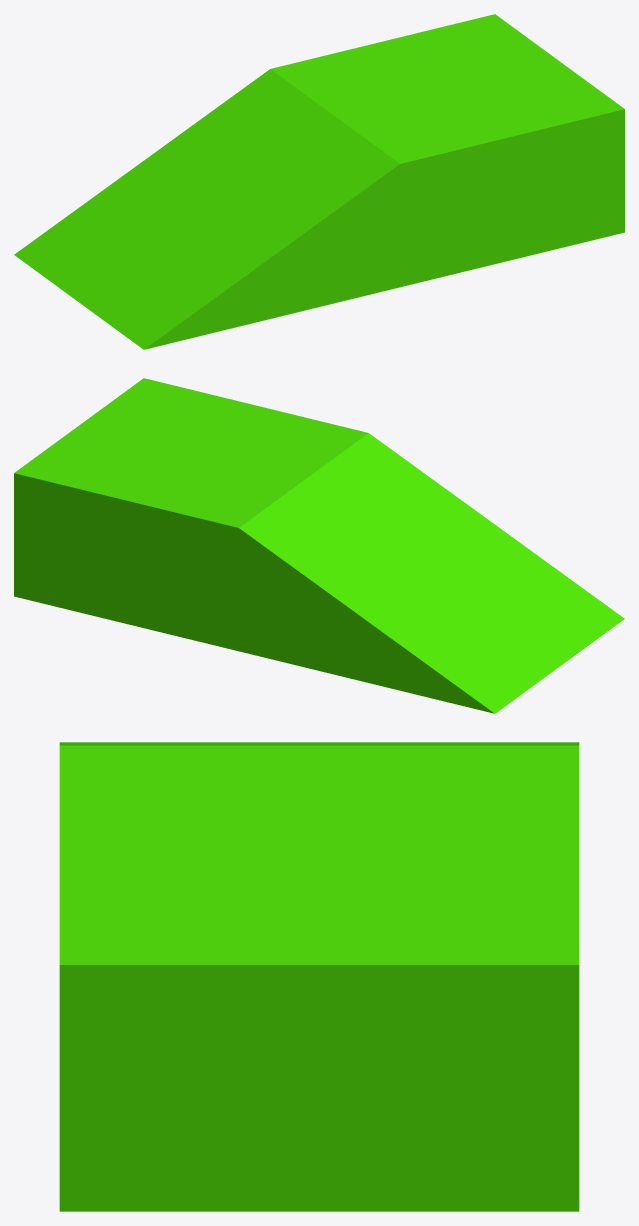
File: Playergym66.fbx
3 views of the same model, one above another, from view 1: azimuth 30°, elevation 25°; view 2: azimuth 150°, elevation 25°; view 3: azimuth 270°, elevation 25° (orthographic). The views are drawn at different scales.
Parts seen in each view (by area): view 1: SM_PLayerGym.010; view 2: SM_PLayerGym.010; view 3: SM_PLayerGym.010.
Boxes of the visible parts, x1,y1,x2,y2 form: SM_PLayerGym.010: (14, 14, 624, 349); SM_PLayerGym.010: (14, 378, 624, 713); SM_PLayerGym.010: (59, 742, 579, 1211).
Size of the model in its own units: 428 by 105 by 200.
